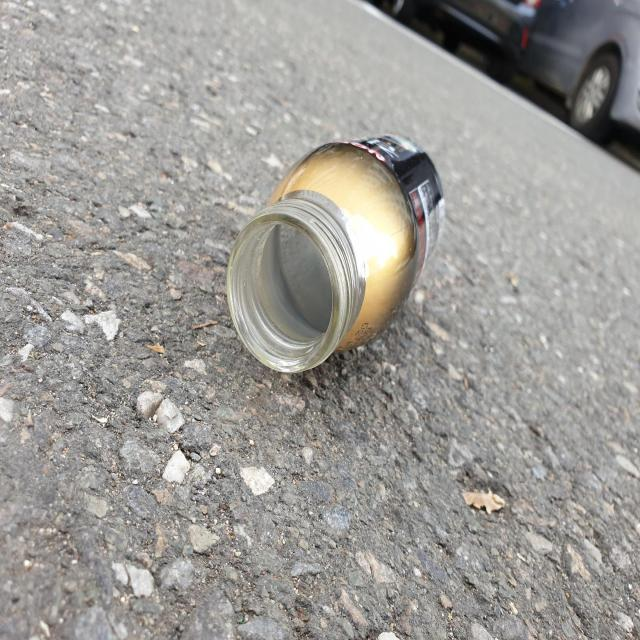glass: (227, 135, 445, 372)
